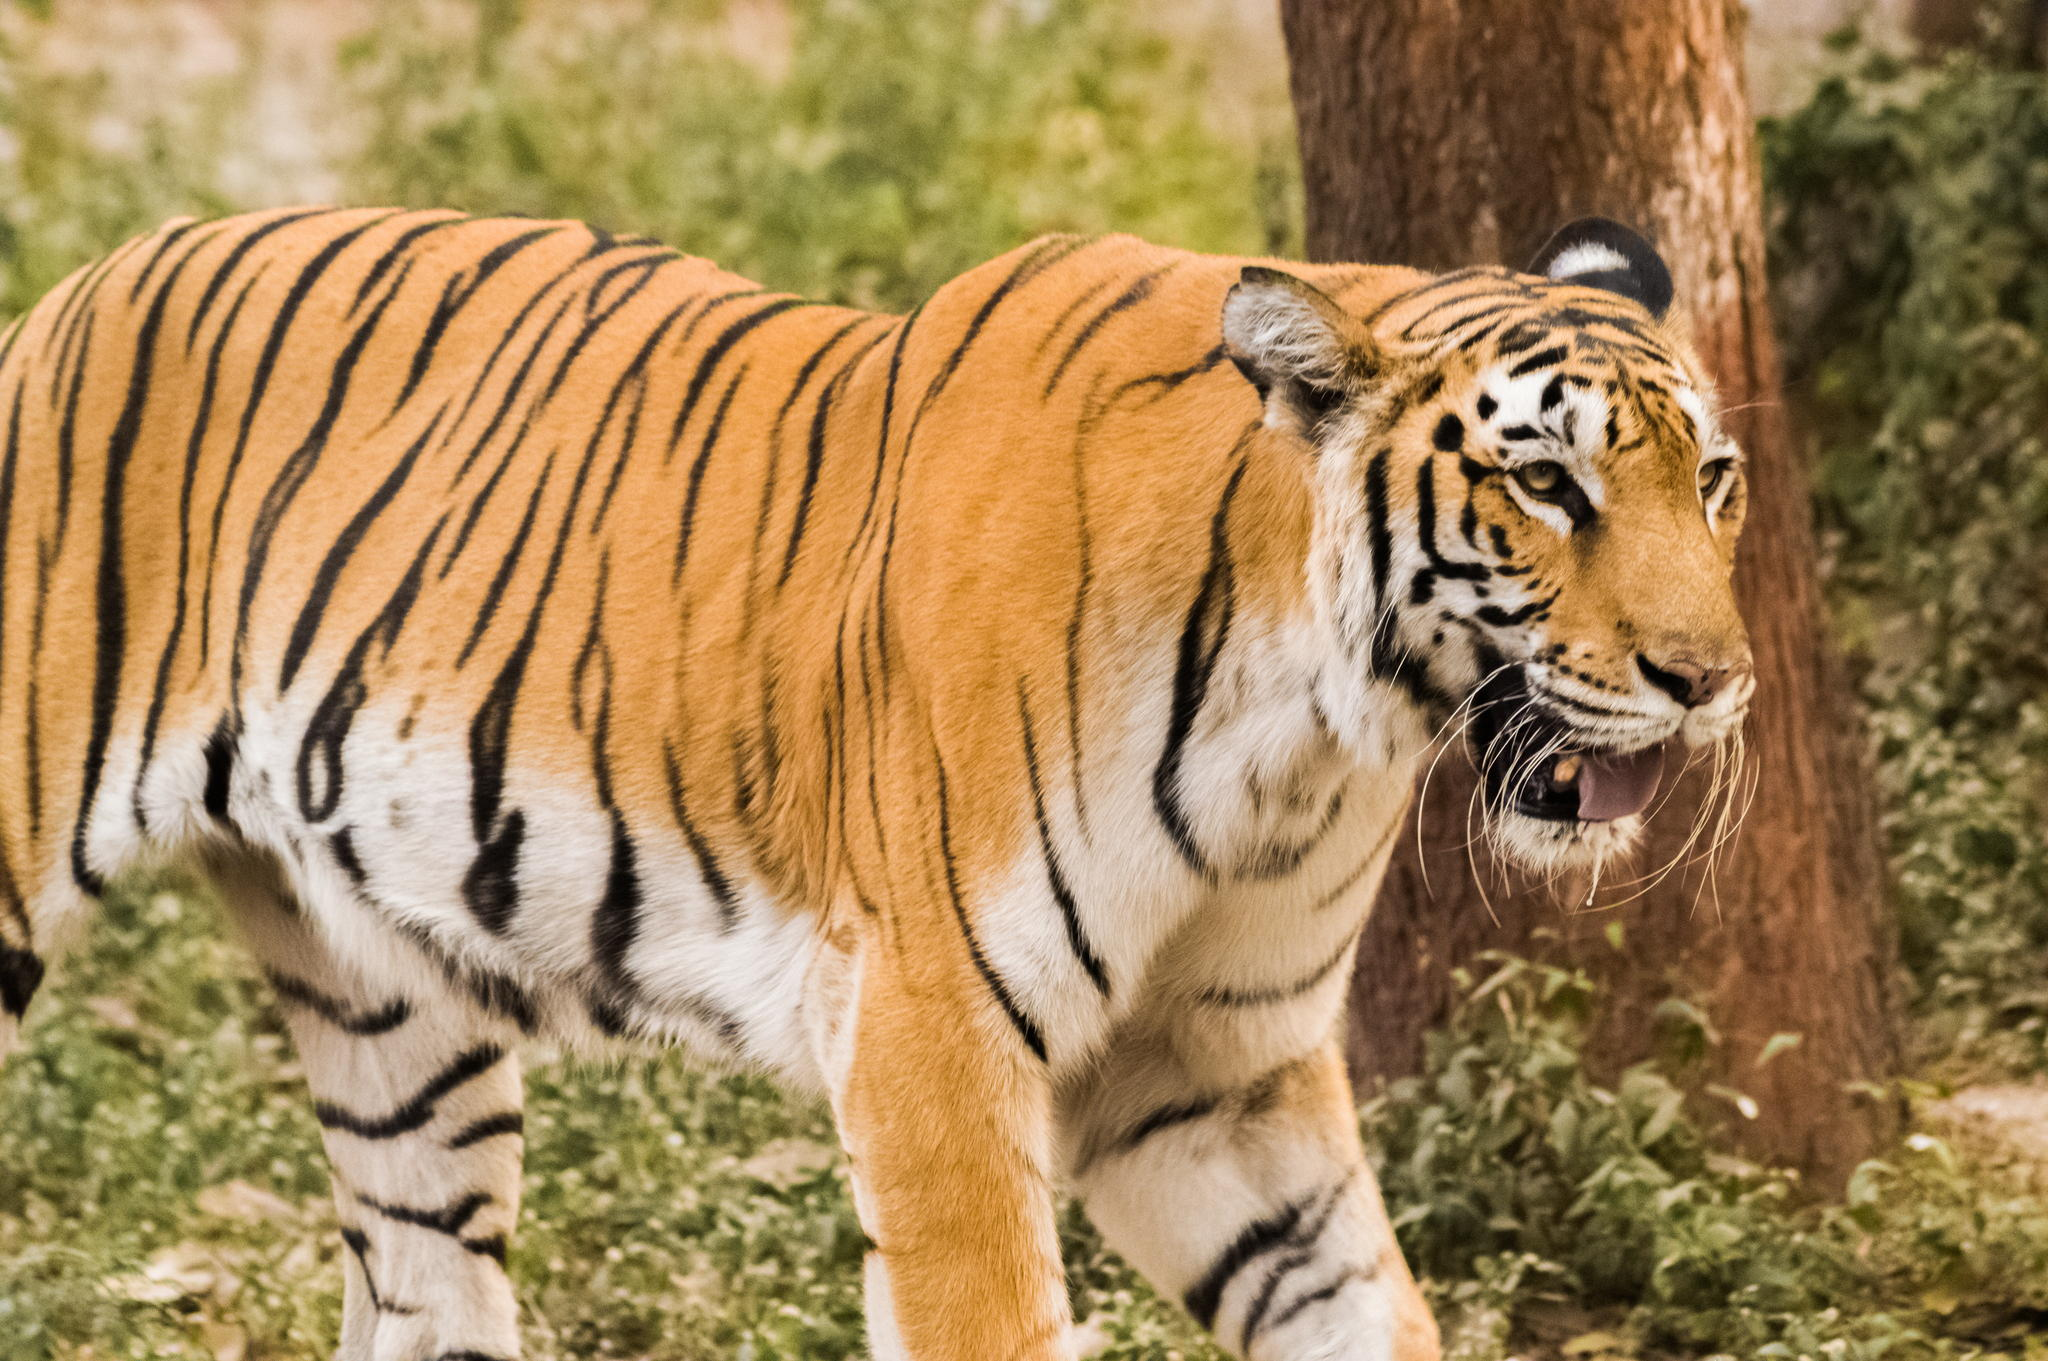tiger: (73, 182, 1779, 1332)
